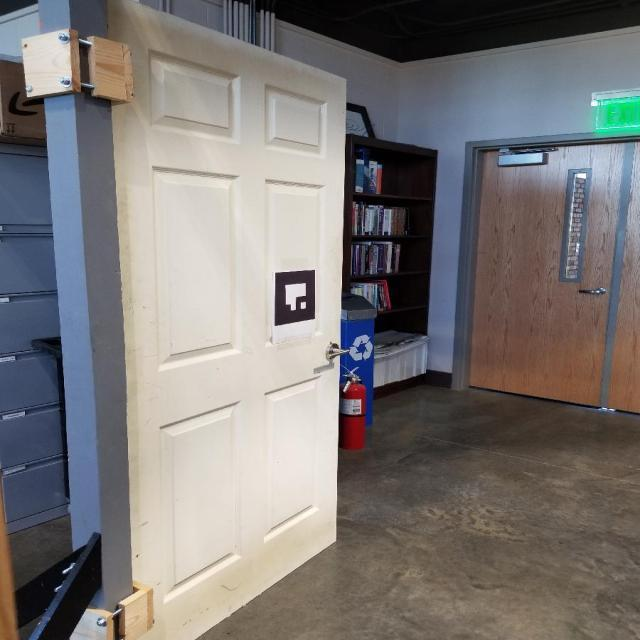door: (95, 0, 345, 639), (323, 340, 350, 360)
